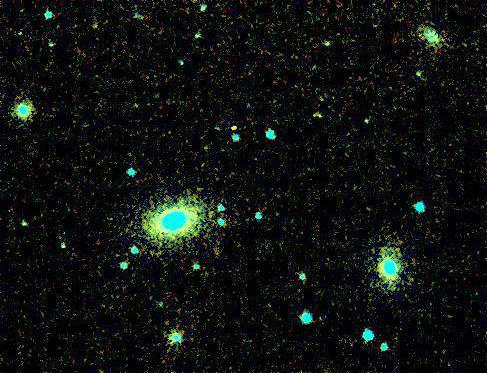star: (223, 109, 253, 139)
